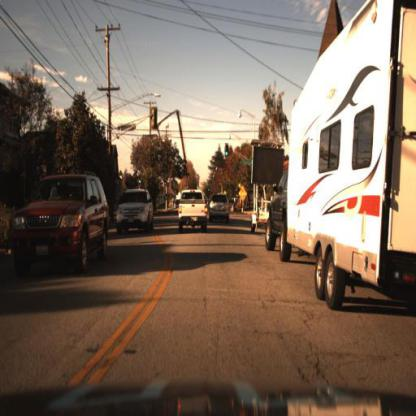car: (11, 171, 111, 283), (114, 185, 157, 236), (177, 185, 210, 232), (207, 193, 235, 229)
trafficLight-Green: (136, 167, 144, 189), (224, 142, 232, 161)
truck: (262, 1, 416, 321), (287, 2, 416, 311)
